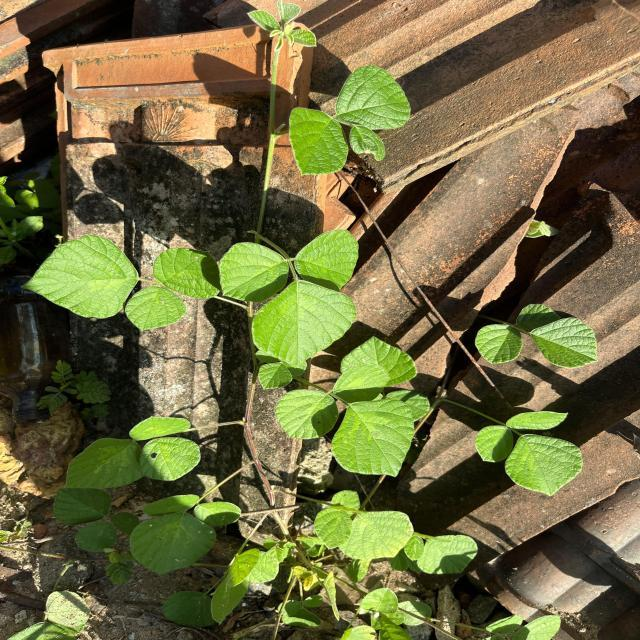Pseudarthria viscida: (19, 232, 220, 333), (218, 228, 360, 369), (274, 361, 416, 479), (63, 415, 202, 489), (474, 410, 584, 498), (128, 493, 243, 576), (474, 302, 599, 369)
